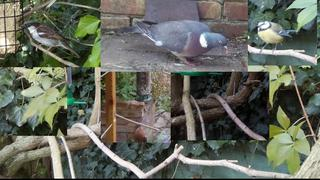blue tit: (255, 20, 297, 54)
sparrow: (20, 20, 81, 58)
wood pigeon: (121, 20, 228, 67)
